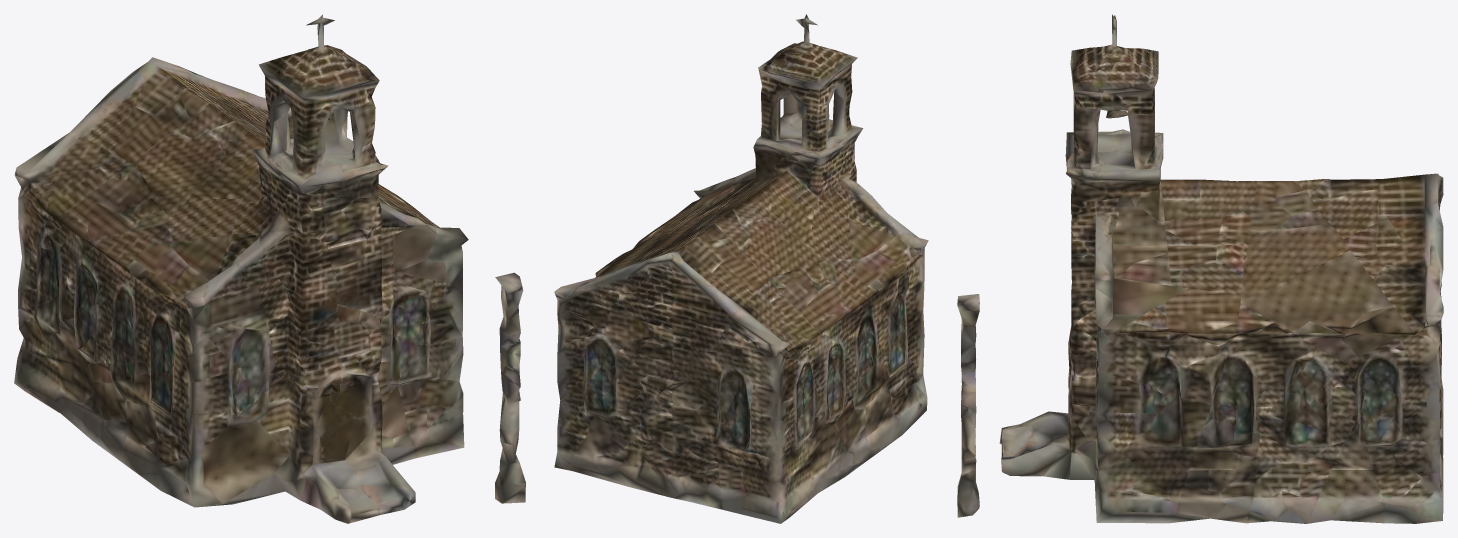
File: church_lod.glb
3 views of the same model, side by side, from view 1: azimuth 30°, elevation 25°; view 2: azimuth 150°, elevation 25°; view 3: azimuth 270°, elevation 25° (orthographic). The views are drawn at different scales.
Visible parts, largest first — view 1: church; view 2: church; view 3: church.
Boxes of the visible parts, bbox=[...] form: church: bbox=[14, 14, 525, 523]; church: bbox=[554, 14, 928, 523]; church: bbox=[957, 14, 1443, 523].
Size of the model in its own units: 7.58 by 11.8 by 11.66.
1 material, 1 textured.
